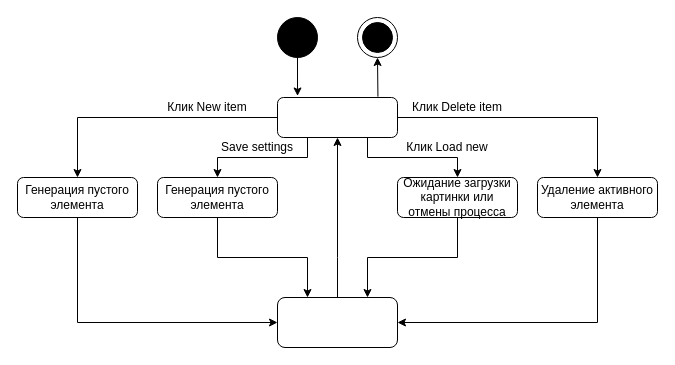
Image size: 675x365. Some labels were removed from this diagram. The shapes that lost their labels are listed below. From the top down, each one's centre as x and y in pixels, then its label:
the point at 337,117: Бездействие
the point at 337,322: Переключение окна Info на последний активный элемент
